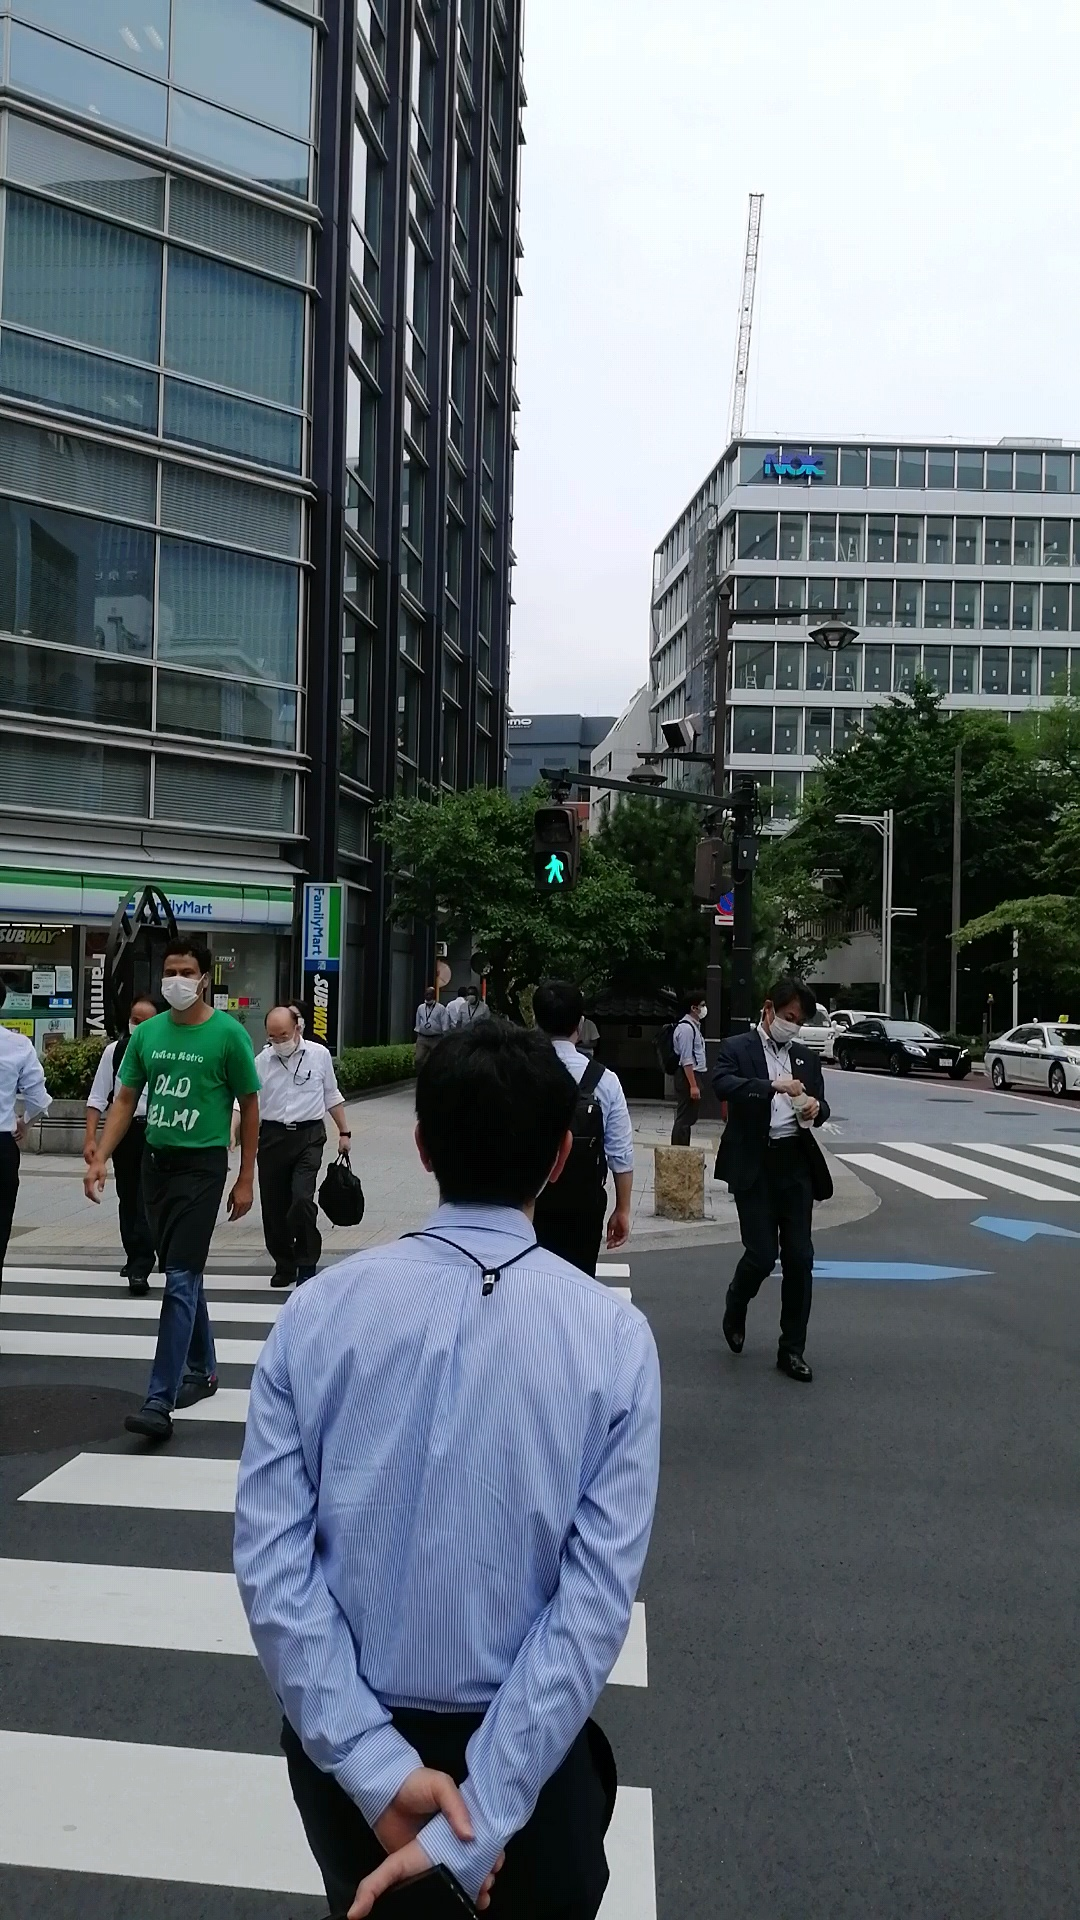green: (531, 807, 578, 895)
